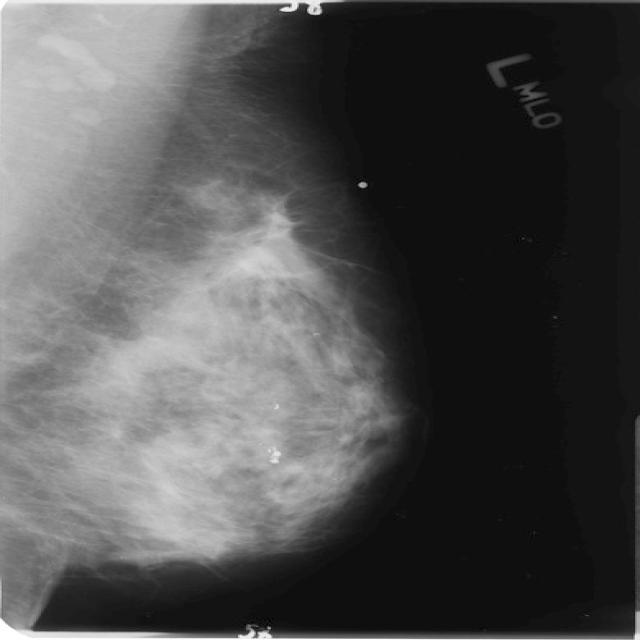tumour: (218, 209, 309, 274)
